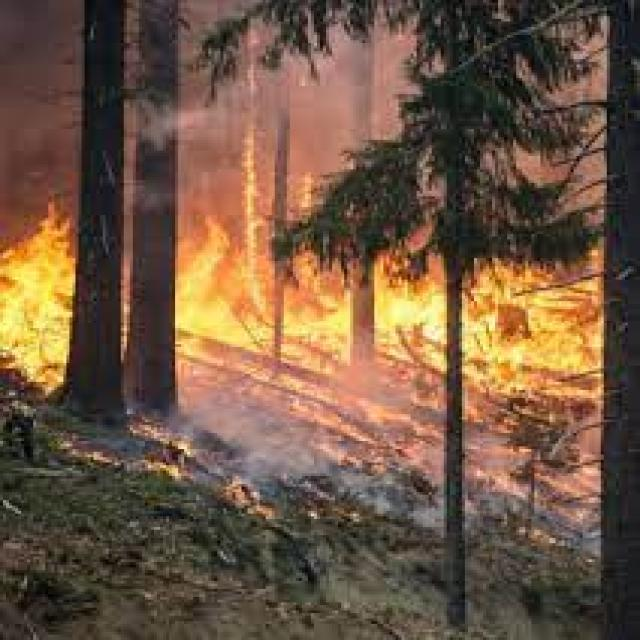Fire: (182, 146, 272, 332), (0, 200, 81, 392), (474, 281, 598, 404), (380, 285, 446, 403)
Smoke: (0, 0, 66, 180), (242, 74, 382, 142)
